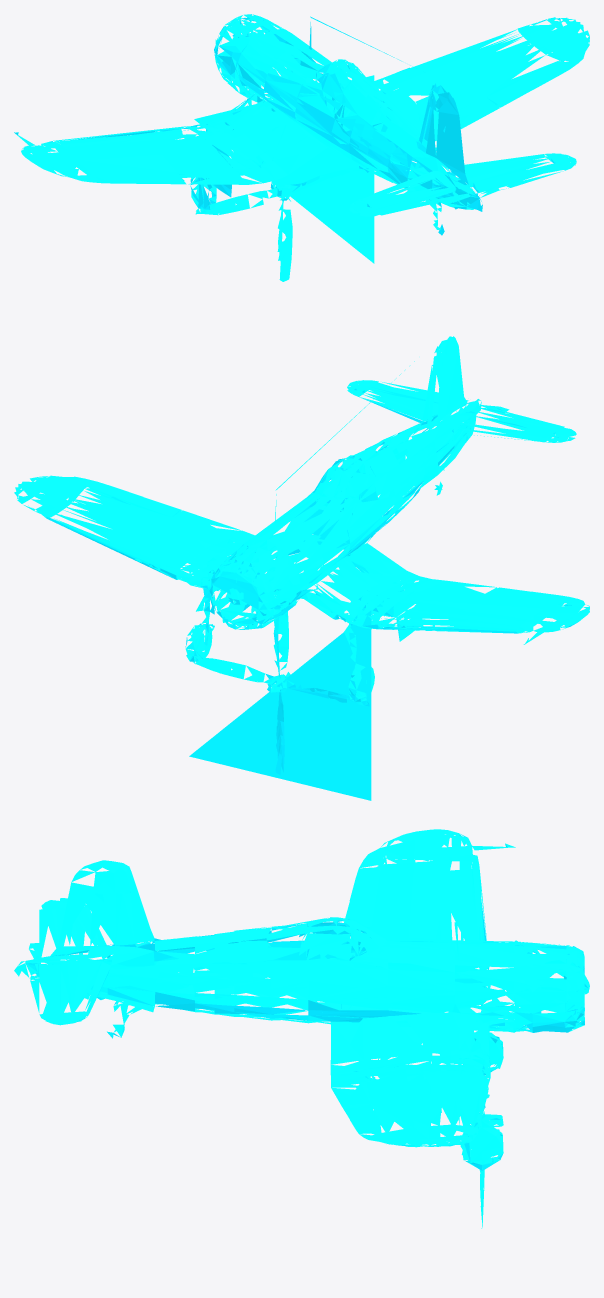
Rendered from PVAD710.glb.
3 renders of one model, top to bottom at view 1: azimuth 30°, elevation 25°; view 2: azimuth 150°, elevation 25°; view 3: azimuth 270°, elevation 25°, orthographic. The views are drawn at different scales.
Parts seen in each view (by area): view 1: misc; view 2: misc; view 3: misc.
Part boxes in pixels (x1,y1,x2,y2): misc: (14, 14, 589, 281); misc: (14, 336, 589, 800); misc: (14, 829, 589, 1228).
Bounding box in the file's own units: 0.831 × 0.4551 × 0.6396.
